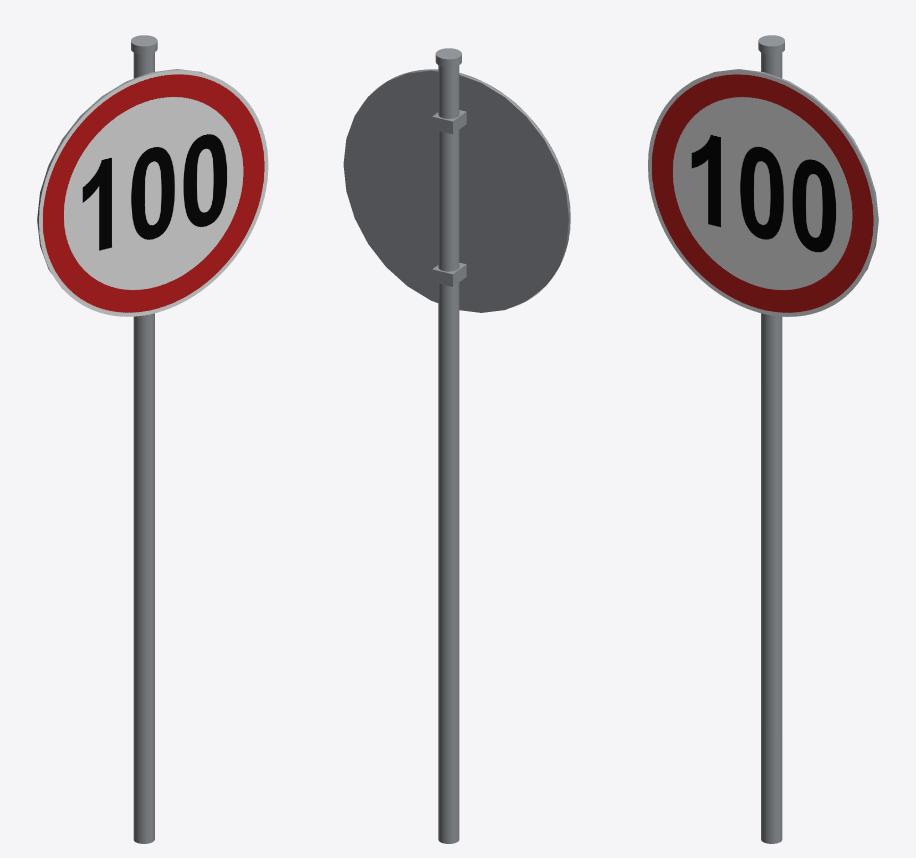
File: sign_speed100kph.dae
The picture shows the model from 3 angles, left to right: view 1: azimuth 30°, elevation 25°; view 2: azimuth 150°, elevation 25°; view 3: azimuth 330°, elevation 25°; orthographic projection.
Parts seen in each view (by area): view 1: sign_speed100kph; view 2: sign_speed100kph; view 3: sign_speed100kph.
Part boxes in pixels (x1,y1,x2,y2): sign_speed100kph: (37,35,268,843); sign_speed100kph: (343,48,570,843); sign_speed100kph: (648,35,878,843).
Bounding box in the file's own units: 0.9 × 0.0895 × 2.47.
Materials: 2 (1 with a texture image).
